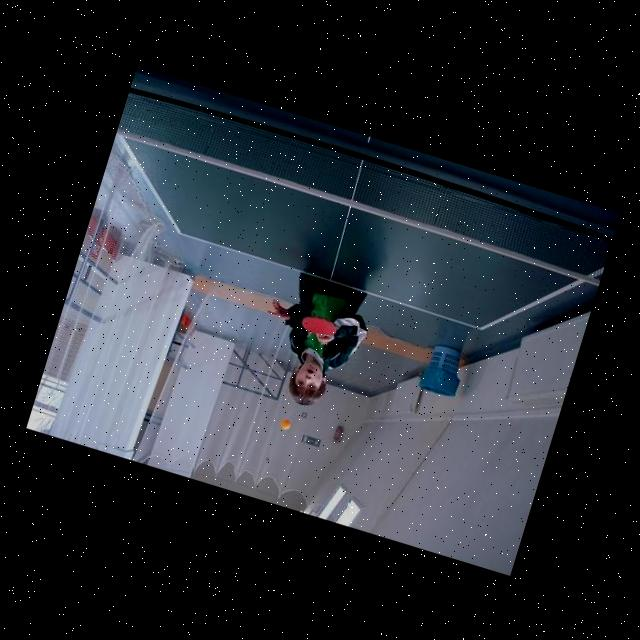ping-pong-ball: (278, 416, 292, 430)
